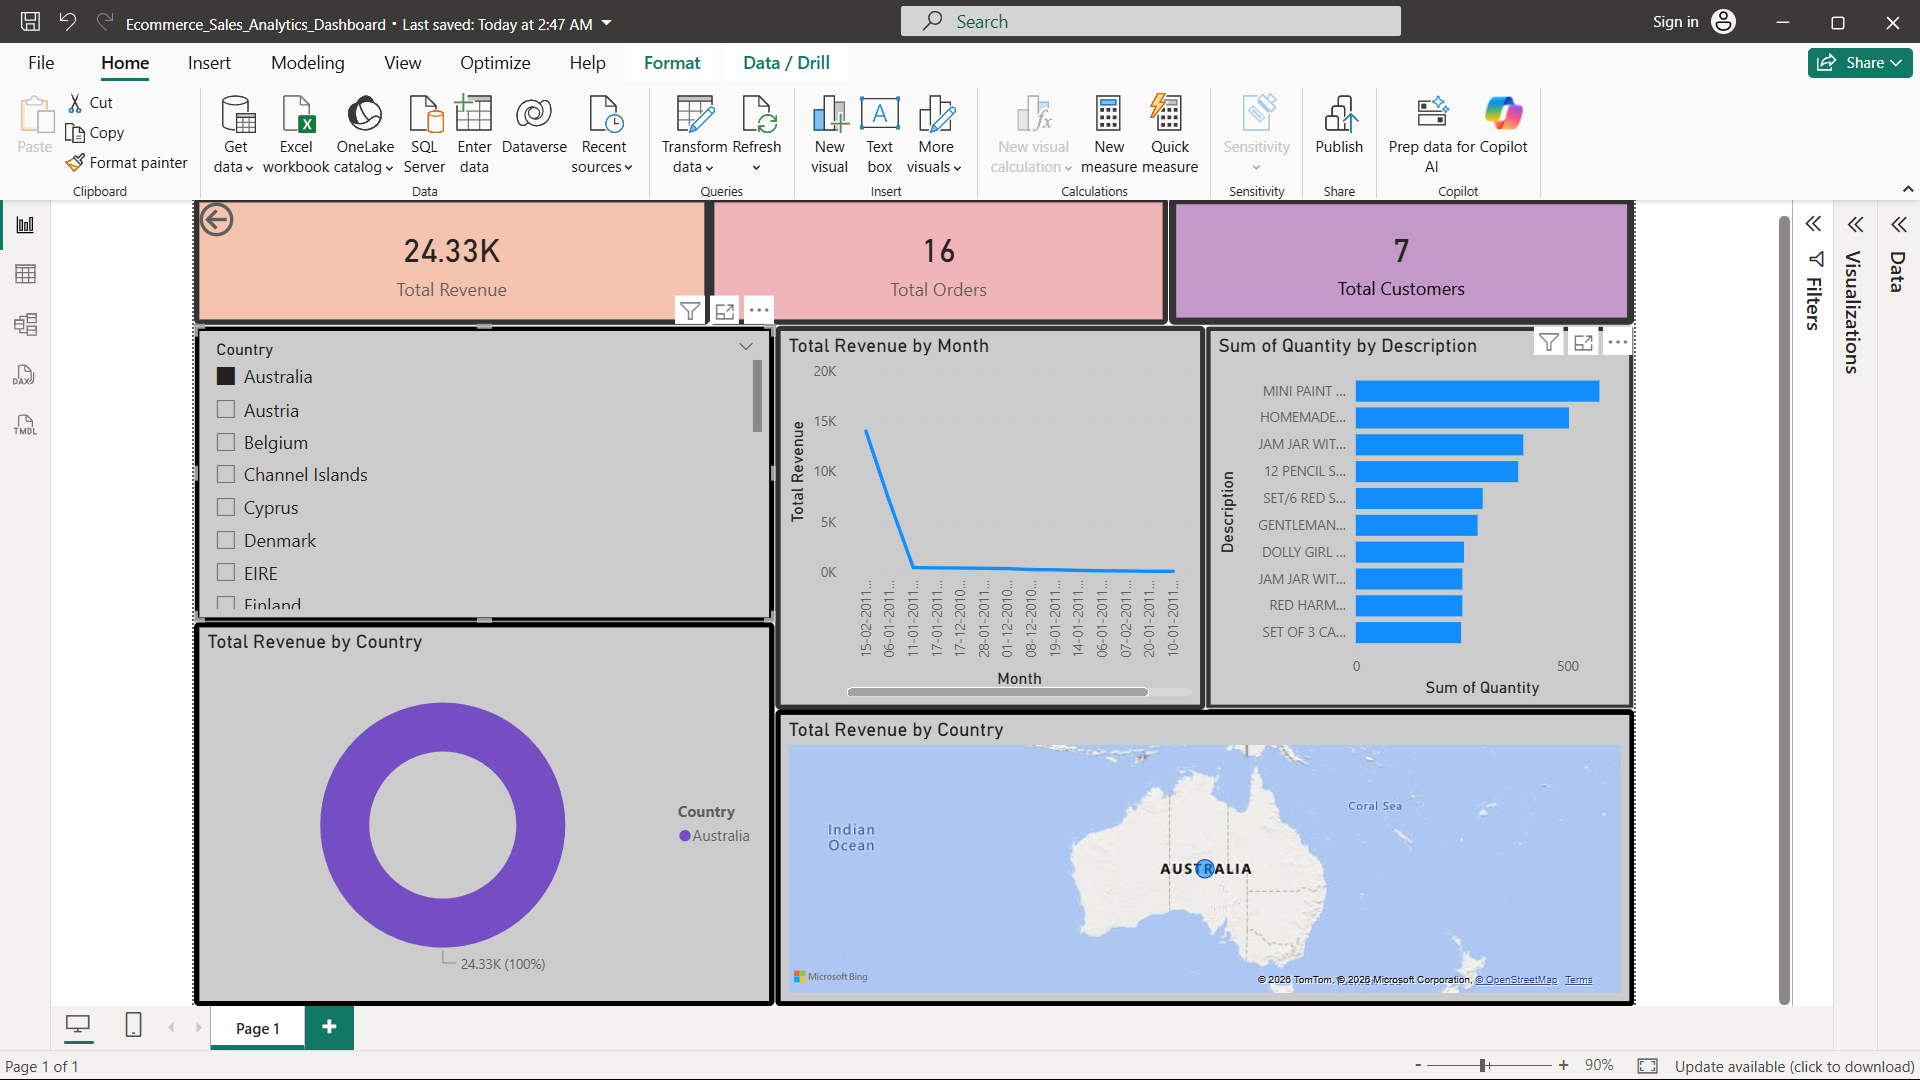

The page's visual inventory and layout, read from the dashboard file:
{"tool":"powerbi","page":{"name":"Page 1","canvas":[1280,720],"ordinal":0},"visuals":[{"type":"card","fields":{"Values":["ecommerce_db ecommerce_sales.Total Customers"]},"box":[866.3,0,414,114],"z":0},{"type":"card","fields":{"Values":["ecommerce_db ecommerce_sales.Total Orders"]},"box":[458.1,0,408.1,114],"z":1000},{"type":"card","fields":{"Values":["ecommerce_db ecommerce_sales.Total Revenue"]},"box":[0,0,458.1,114],"z":2000},{"type":"lineChart","fields":{"Category":["ecommerce_db ecommerce_sales.Month"],"Y":["ecommerce_db ecommerce_sales.Total Revenue"]},"box":[516.3,114,382.6,341.9],"z":3000},{"type":"clusteredBarChart","fields":{"Category":["ecommerce_db ecommerce_sales.Description"],"Y":["Sum(ecommerce_db ecommerce_sales.Quantity)"]},"box":[898.8,114,381.4,341.9],"z":4000},{"type":"map","fields":{"Category":["ecommerce_db ecommerce_sales.Country"],"Size":["ecommerce_db ecommerce_sales.Total Revenue"]},"box":[516.3,455.8,764,264],"z":5000},{"type":"donutChart","fields":{"Category":["ecommerce_db ecommerce_sales.Country"],"Y":["ecommerce_db ecommerce_sales.Total Revenue"]},"box":[0,377.9,516.3,341.9],"z":5001},{"type":"slicer","fields":{"Values":["ecommerce_db ecommerce_sales.Country"]},"box":[0,114,516.3,264],"z":5002},{"type":"actionButton","box":[0,0,100,40],"z":5003}]}

Visuals, with their boxes on the page's 1280x720 design canvas (x1, y1, x2, y2). These are canvas units, not pixel positions in the 1920x1080 screenshot, which may show the page scaled, cropped or inside an application window:
card - ecommerce_db ecommerce_sales.Total Customers: bbox(866, 0, 1280, 114)
card - ecommerce_db ecommerce_sales.Total Orders: bbox(458, 0, 866, 114)
card - ecommerce_db ecommerce_sales.Total Revenue: bbox(0, 0, 458, 114)
lineChart - ecommerce_db ecommerce_sales.Month x ecommerce_db ecommerce_sales.Total Revenue: bbox(516, 114, 899, 456)
clusteredBarChart - ecommerce_db ecommerce_sales.Description x Sum(ecommerce_db ecommerce_sales.Quantity): bbox(899, 114, 1280, 456)
map - ecommerce_db ecommerce_sales.Country x ecommerce_db ecommerce_sales.Total Revenue: bbox(516, 456, 1280, 720)
donutChart - ecommerce_db ecommerce_sales.Country x ecommerce_db ecommerce_sales.Total Revenue: bbox(0, 378, 516, 720)
slicer - ecommerce_db ecommerce_sales.Country: bbox(0, 114, 516, 378)
actionButton: bbox(0, 0, 100, 40)
